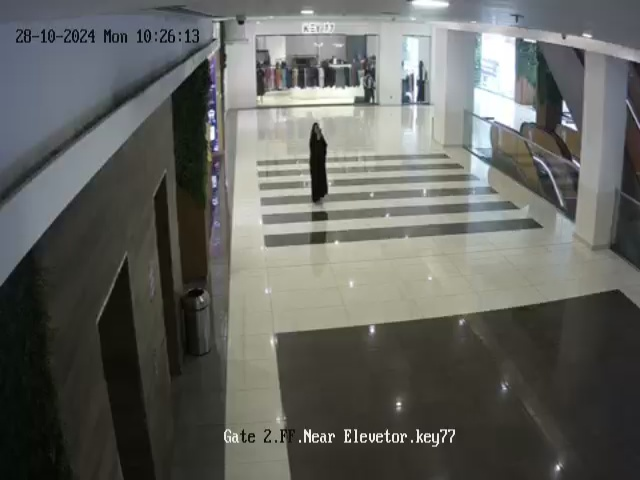female: (287, 105, 357, 220)
other: (409, 53, 432, 106)
